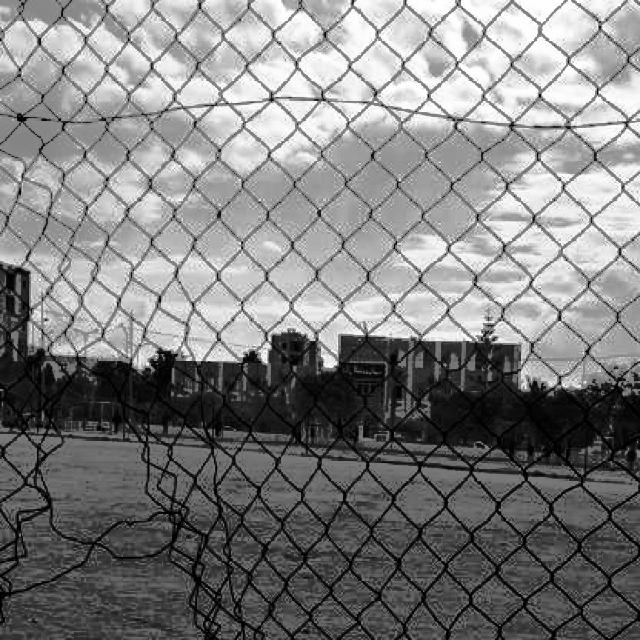anomaly-fence: (0, 260, 263, 640)
